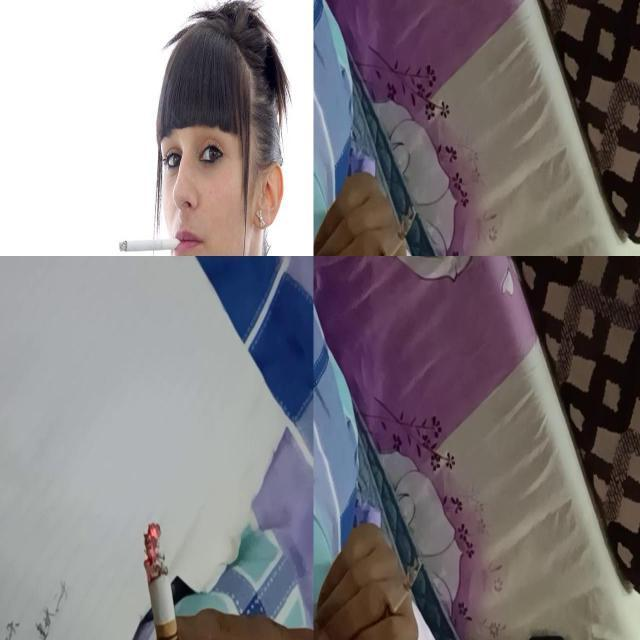smoking: (144, 522, 192, 640), (378, 556, 422, 632), (372, 204, 417, 256), (120, 238, 182, 253)
